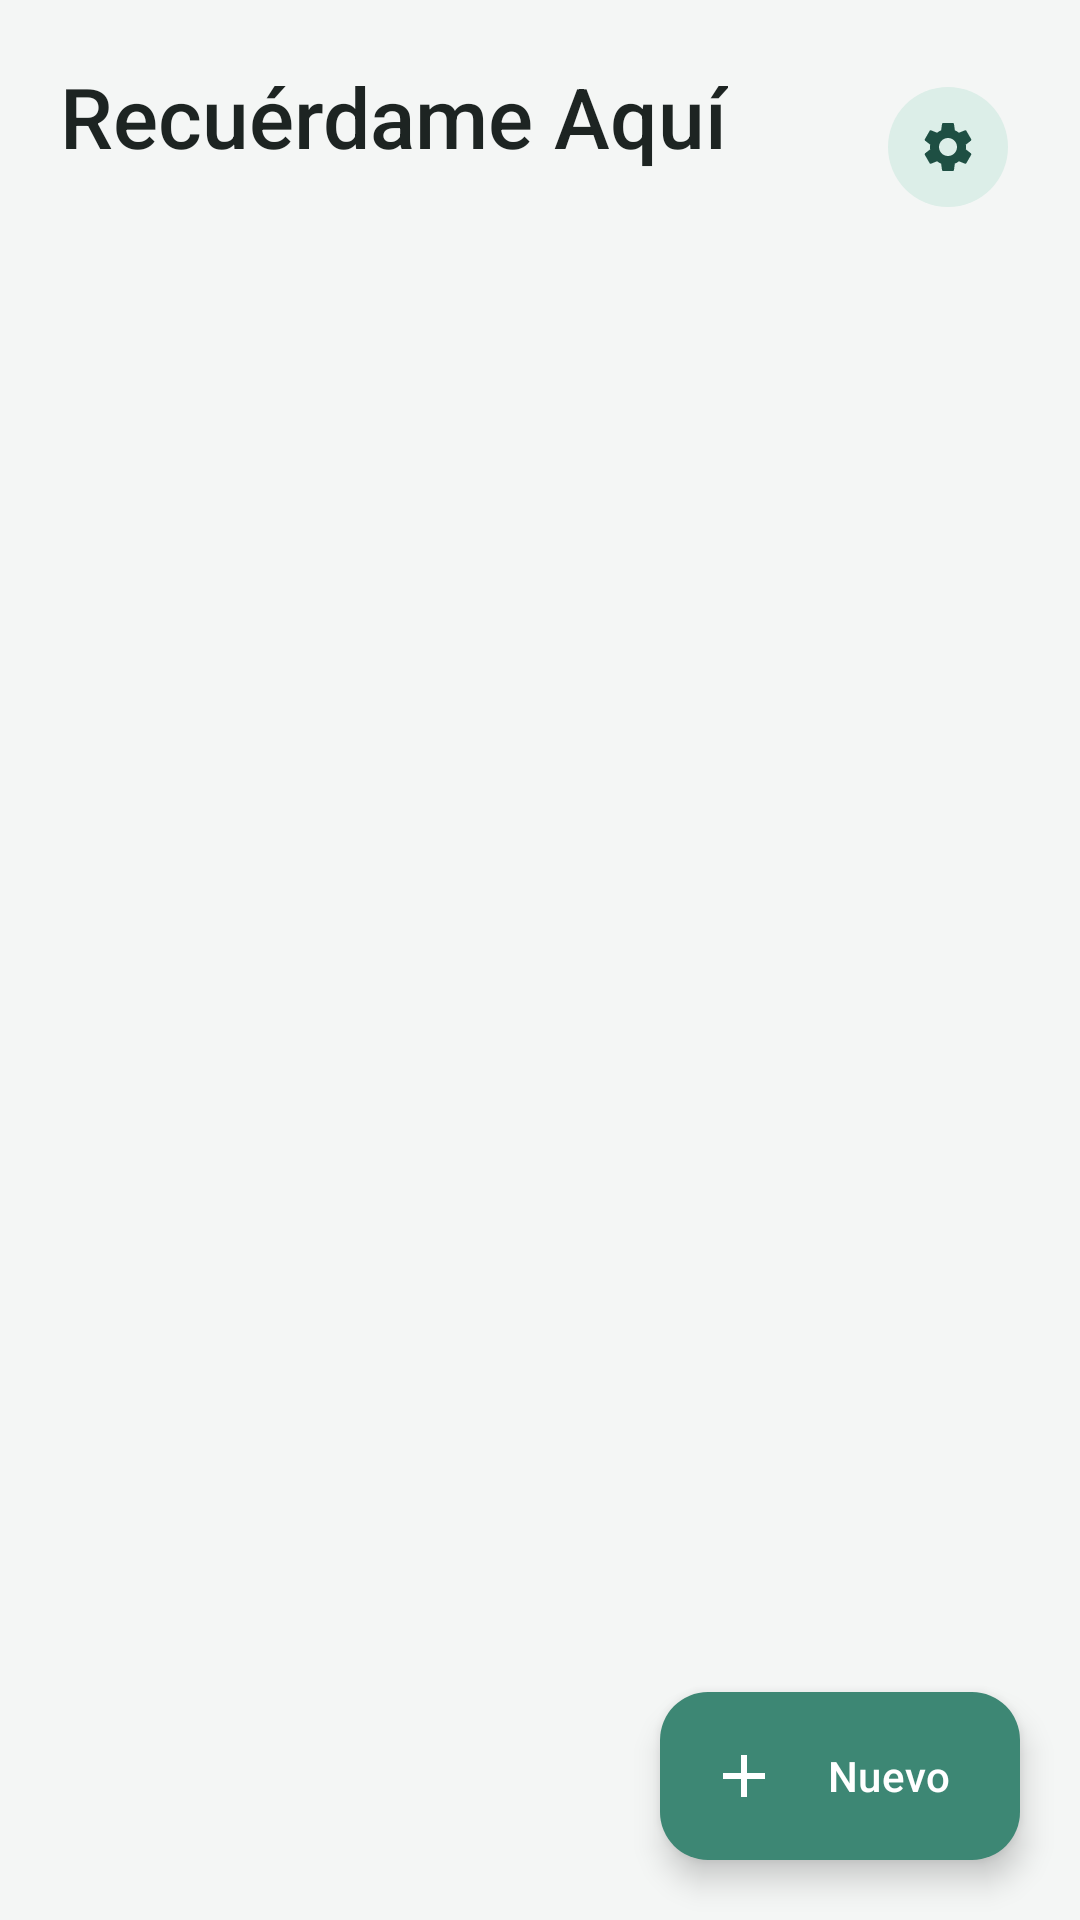

Icons on this 1080w x 1920h Android screen, each with its box as (x1, y1, x2, y2):
Configuración: (924, 123, 972, 171)
